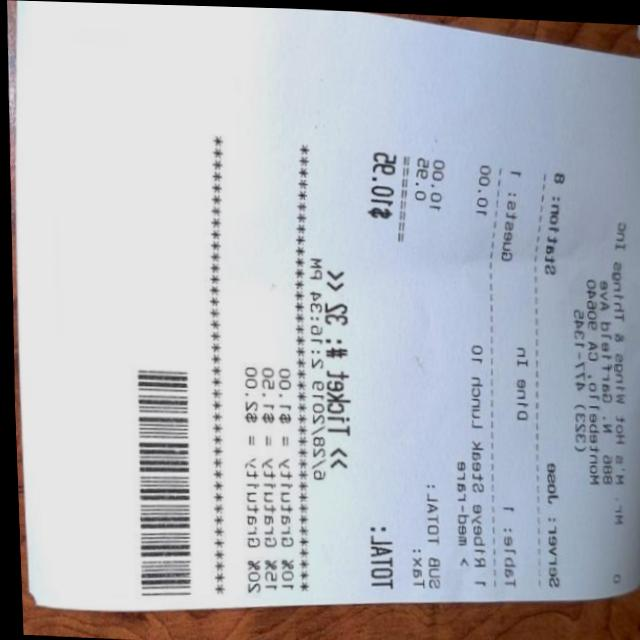Paper: (0, 0, 640, 636)
